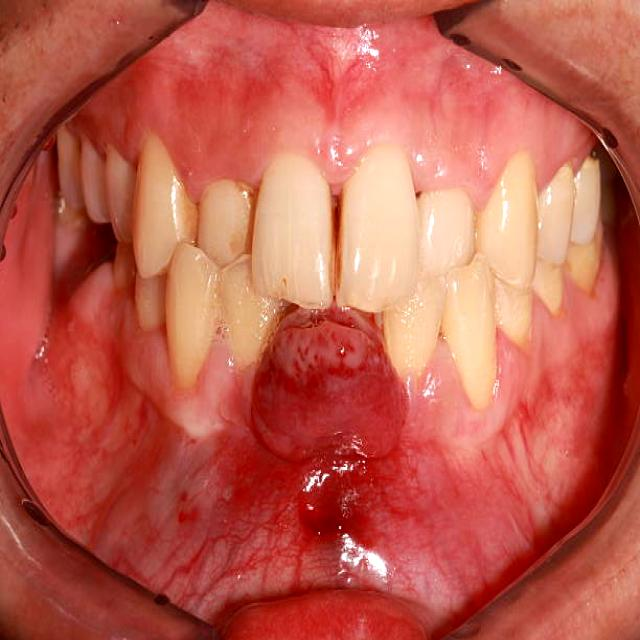gingivitis: (79, 4, 595, 208), (82, 256, 618, 452)
